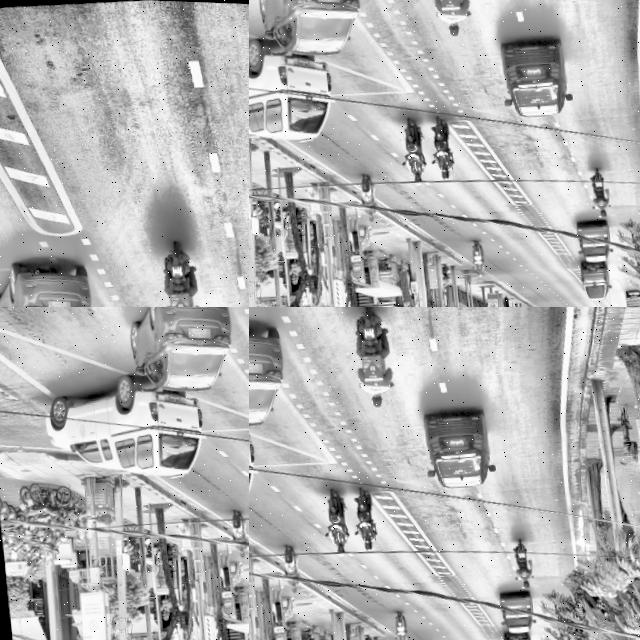license-plate: (249, 358, 261, 373), (448, 434, 463, 444), (362, 325, 374, 336), (517, 547, 524, 555), (511, 633, 517, 638)
